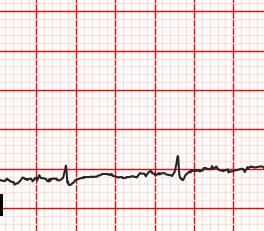Poor R Progression: (170, 152, 183, 178), (60, 163, 71, 182)
